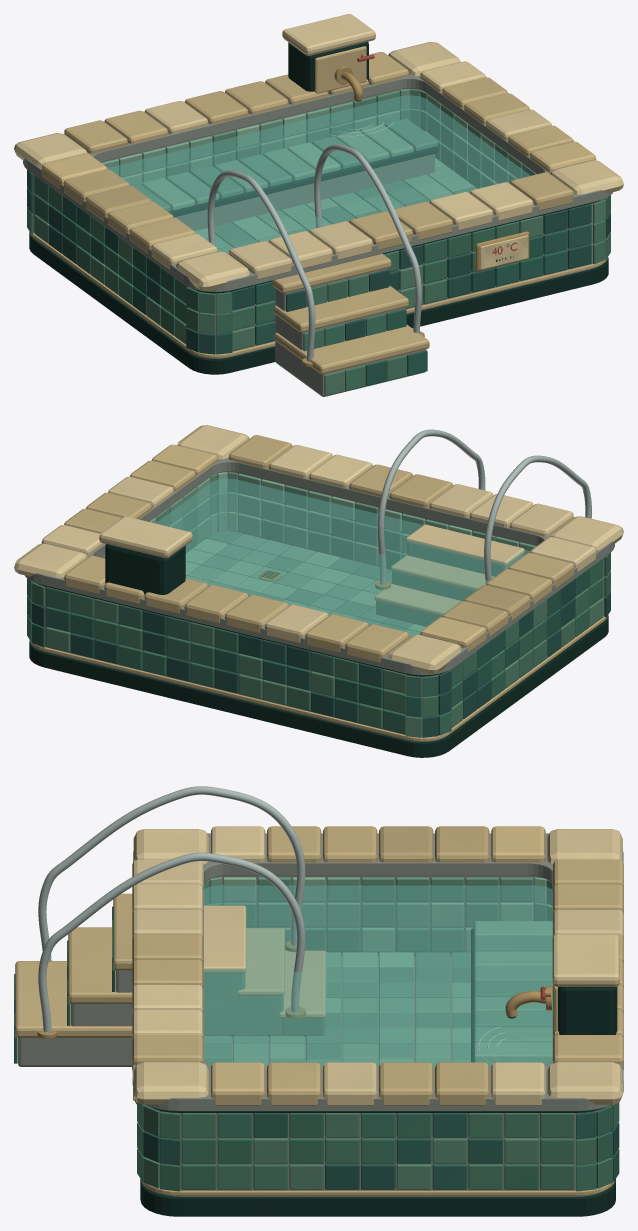
The model's file is Bath_01.glb.
3 views of the same model, one above another, from view 1: azimuth 30°, elevation 25°; view 2: azimuth 150°, elevation 25°; view 3: azimuth 270°, elevation 25° (orthographic). The views are drawn at different scales.
Visible parts, largest first — view 1: SM_Bath_01_Body, SM_Bath_01_Water, SM_Bath_01_Hardware, SM_Bath_01_Details; view 2: SM_Bath_01_Body, SM_Bath_01_Water, SM_Bath_01_Hardware; view 3: SM_Bath_01_Body, SM_Bath_01_Water, SM_Bath_01_Hardware.
Part boxes in pixels (<box>): SM_Bath_01_Body: <box>14,14,623,396</box>; SM_Bath_01_Water: <box>107,95,530,252</box>; SM_Bath_01_Hardware: <box>207,53,424,366</box>; SM_Bath_01_Details: <box>475,231,529,271</box>; SM_Bath_01_Body: <box>14,425,623,757</box>; SM_Bath_01_Water: <box>156,478,530,635</box>; SM_Bath_01_Hardware: <box>375,429,591,589</box>; SM_Bath_01_Body: <box>14,826,623,1216</box>; SM_Bath_01_Water: <box>204,885,552,1068</box>; SM_Bath_01_Hardware: <box>37,786,551,1038</box>.
Size of the model in its own units: 4.57 by 1.81 by 4.43.
18 materials, 11 textured.
